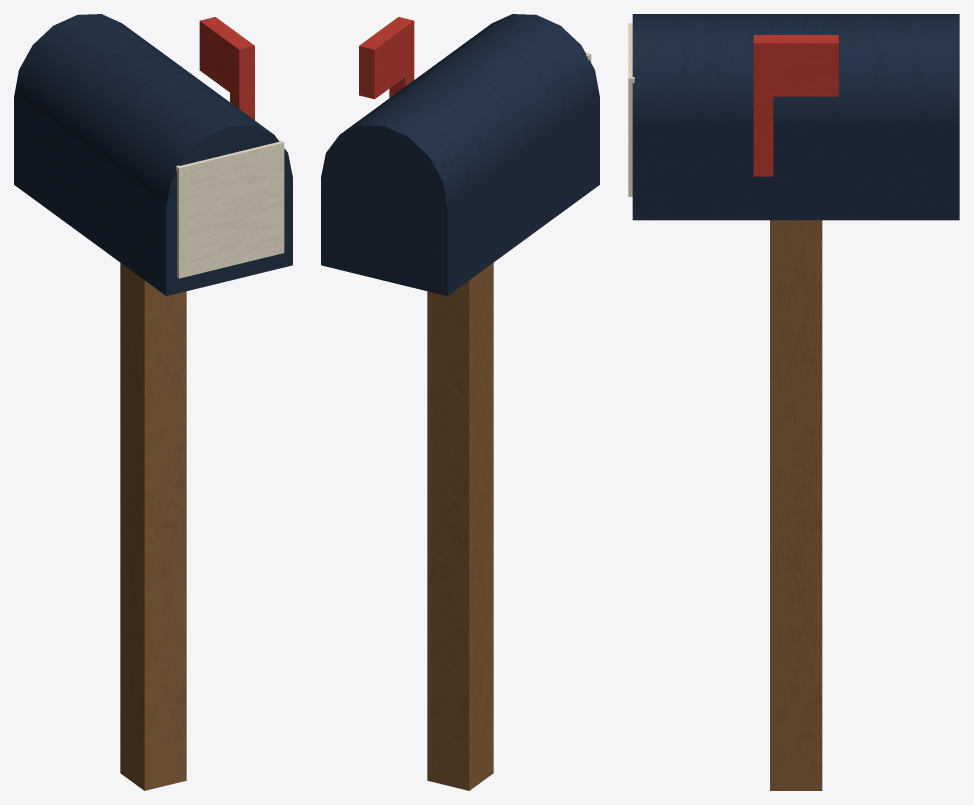
File: mailbox.glb
The picture shows the model from 3 angles, left to right: view 1: azimuth 30°, elevation 25°; view 2: azimuth 150°, elevation 25°; view 3: azimuth 270°, elevation 25°; orthographic projection. The views are drawn at different scales.
Parts seen in each view (by area): view 1: mailbox; view 2: mailbox; view 3: mailbox.
Part boxes in pixels (x1,y1,x2,y2): mailbox: (14,14,292,790); mailbox: (321,14,599,790); mailbox: (628,14,959,790).
Size of the model in its own units: 0.275 by 1.32 by 0.507.
Materials: 5 (5 with a texture image).
